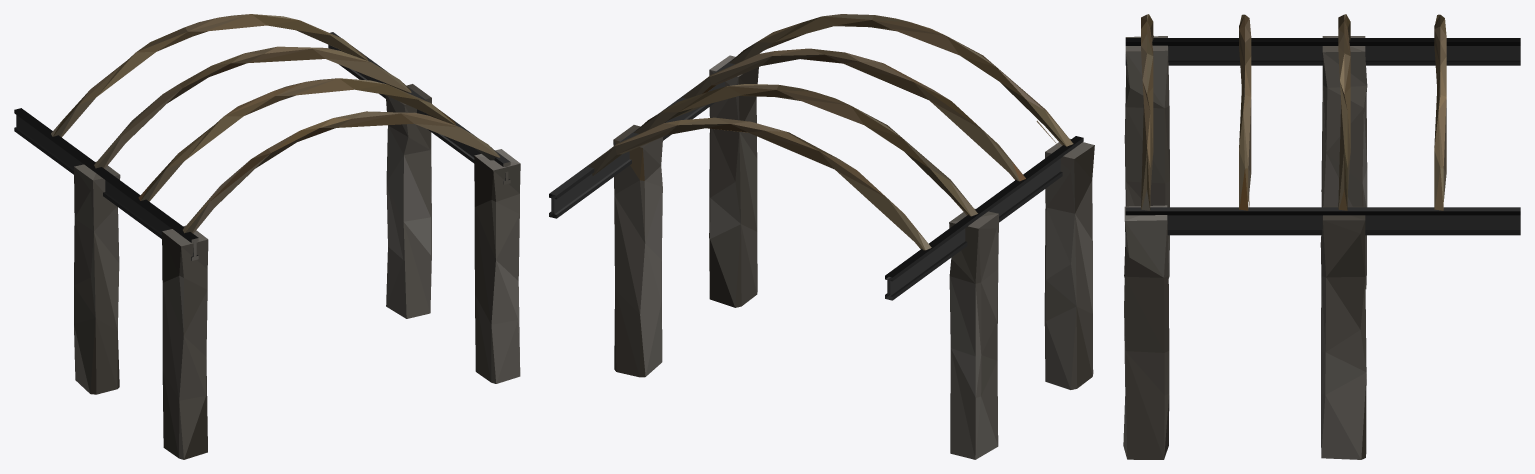
The model's file is Prop-Pergola.fbx.
3 renders of one model, left to right at view 1: azimuth 30°, elevation 25°; view 2: azimuth 150°, elevation 25°; view 3: azimuth 270°, elevation 25°, orthographic. The views are drawn at different scales.
Parts seen in each view (by area): view 1: Prop-Pergola; view 2: Prop-Pergola; view 3: Prop-Pergola.
Boxes of the visible parts, x1,y1,x2,y2 form: Prop-Pergola: (14, 14, 520, 459); Prop-Pergola: (549, 14, 1094, 459); Prop-Pergola: (1123, 14, 1520, 459).
Size of the model in its own units: 500 by 414 by 452.
